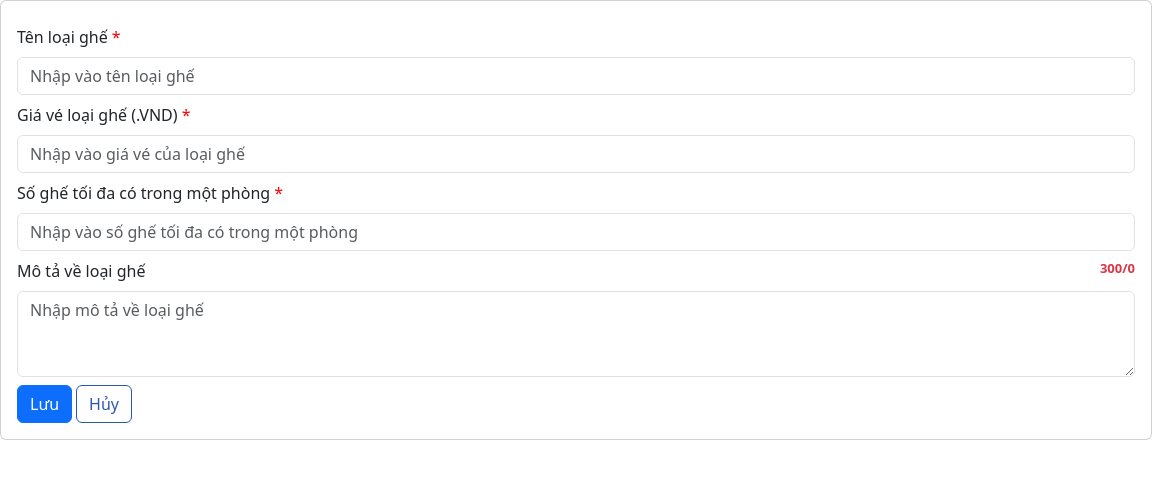
Test: FormChairCategory › func check chairCategory null (TC 3)
# Nhập dữ liệu vào các trường input sử dụng fireEvent.change
In the field with placeholder "Nhập vào tên loại ghế": [576, 76] box [17,57,1135,95], type "VP"
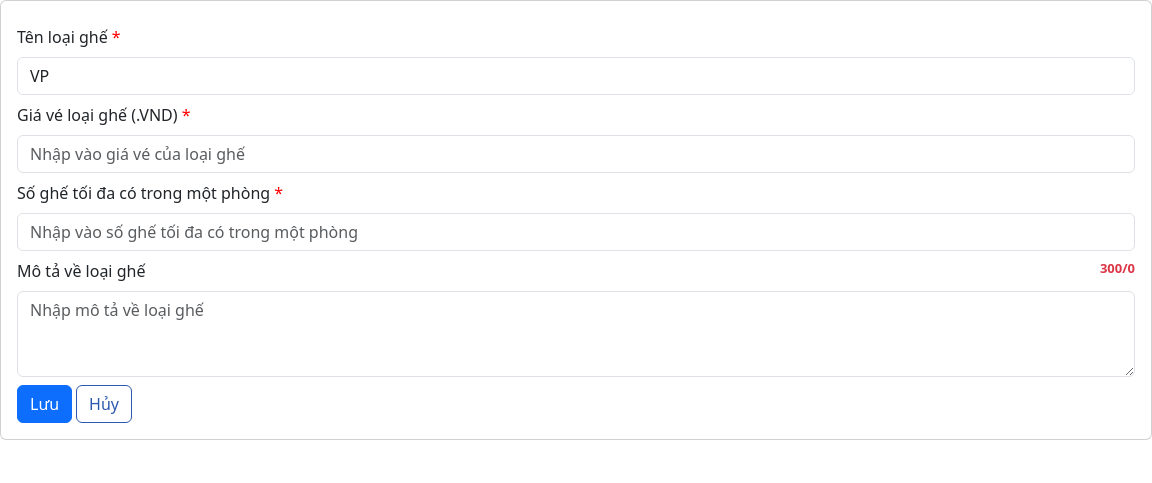
In the text box with placeholder "Nhập mô tả về loại ghế": [576, 334] box [17,291,1135,377], type "Loại ghế cao cấp với nhiều tiện nghi."
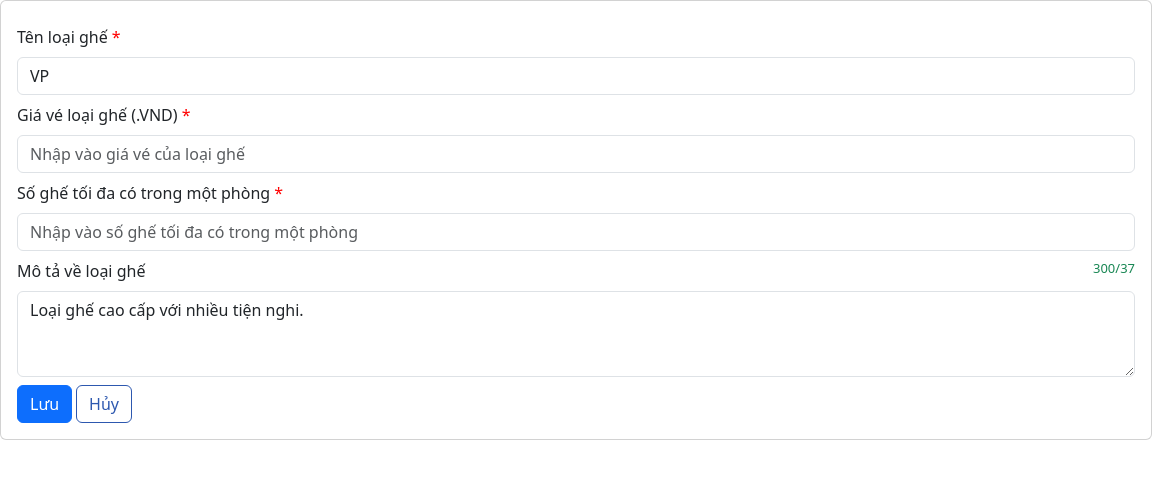
In the number field with placeholder "Nhập vào giá vé của loại ghế": [576, 154] box [17,135,1135,173], type "150000"
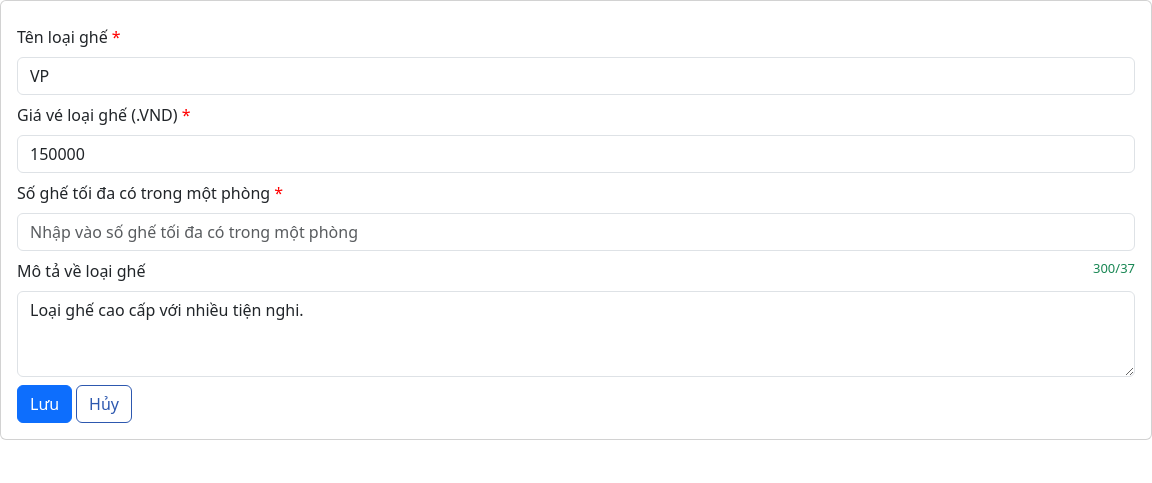
In the number field with placeholder "Nhập vào số ghế tối đa có trong một phòng": [576, 232] box [17,213,1135,251], type "50"
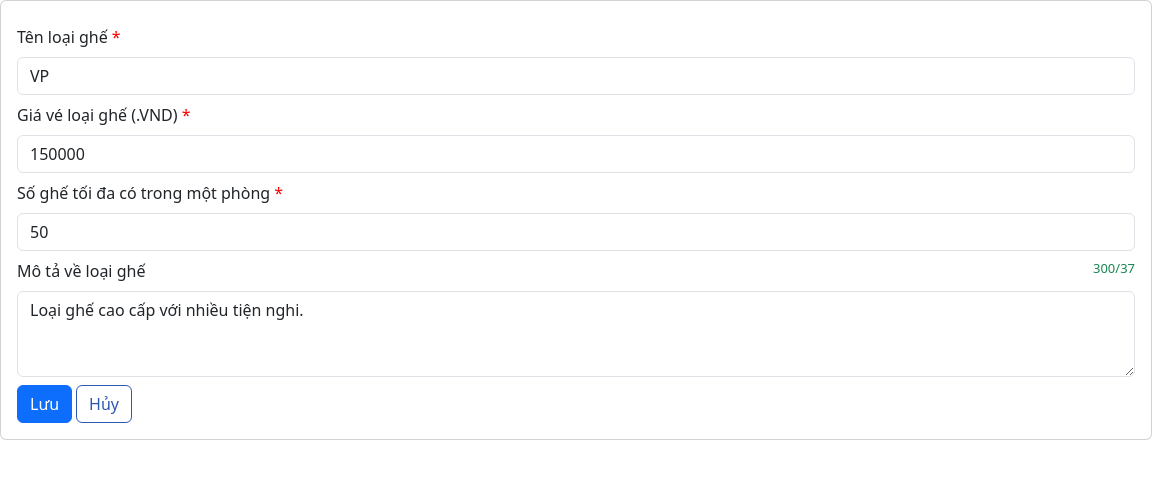
# Bấm nút "Lưu" mà không nhập bất kỳ dữ liệu nào
Click the button "Lưu": [45, 404] box [17,385,72,423]
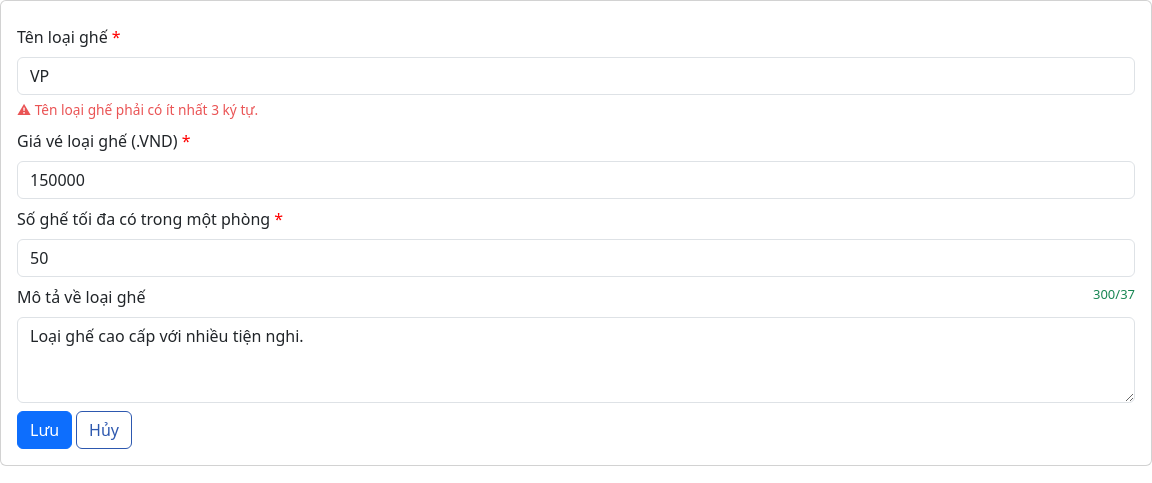
Expected: the text "Tên loại ghế phải có ít nhất 3 ký tự." is shown, [35,100,258,119]
